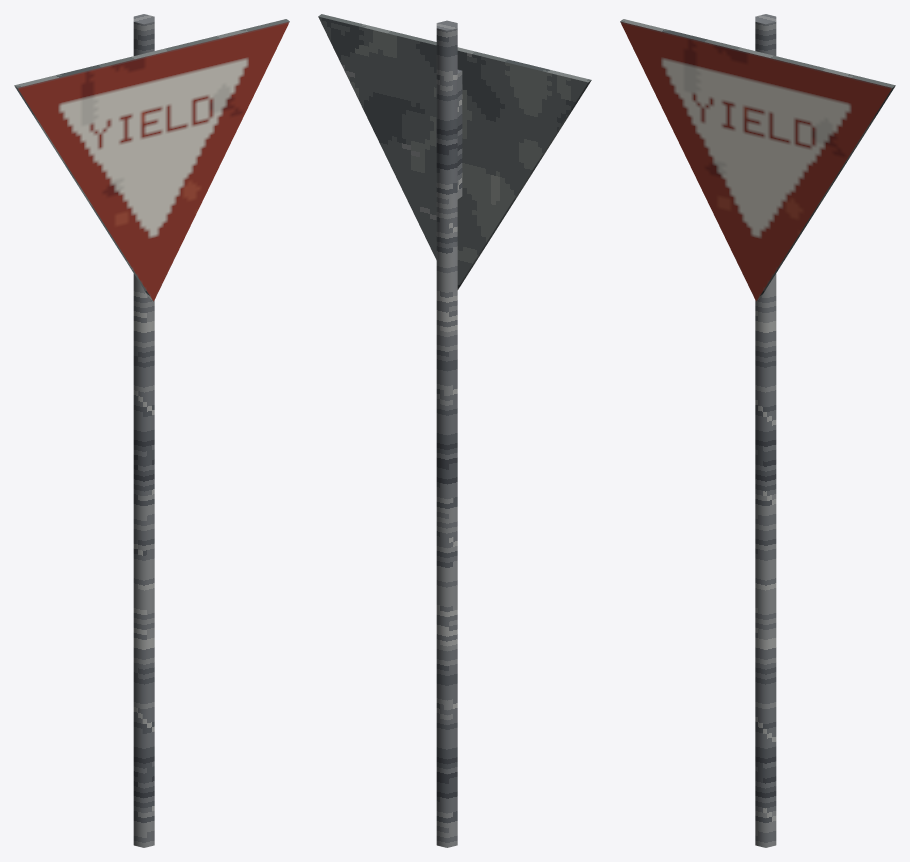
The model's file is SP_Sign_Yield.obj.
The picture shows the model from 3 angles, left to right: view 1: azimuth 30°, elevation 25°; view 2: azimuth 150°, elevation 25°; view 3: azimuth 330°, elevation 25°; orthographic projection.
Parts seen in each view (by area): view 1: SP_Sign_Yield_Mesh_M_Town_SignAtlas, SP_Sign_Yield_Mesh_M_Furn_MetalBrushed, SP_Sign_Yield_Mesh_M_Com_SignageBacking; view 2: SP_Sign_Yield_Mesh_M_Com_SignageBacking, SP_Sign_Yield_Mesh_M_Furn_MetalBrushed; view 3: SP_Sign_Yield_Mesh_M_Town_SignAtlas, SP_Sign_Yield_Mesh_M_Furn_MetalBrushed, SP_Sign_Yield_Mesh_M_Com_SignageBacking.
Boxes of the visible parts, left/top/right/bottom form: SP_Sign_Yield_Mesh_M_Town_SignAtlas: left=18, top=21, right=289, bottom=301; SP_Sign_Yield_Mesh_M_Furn_MetalBrushed: left=133, top=14, right=154, bottom=847; SP_Sign_Yield_Mesh_M_Com_SignageBacking: left=14, top=19, right=289, bottom=301; SP_Sign_Yield_Mesh_M_Com_SignageBacking: left=318, top=14, right=591, bottom=289; SP_Sign_Yield_Mesh_M_Furn_MetalBrushed: left=436, top=20, right=462, bottom=847; SP_Sign_Yield_Mesh_M_Town_SignAtlas: left=620, top=21, right=891, bottom=301; SP_Sign_Yield_Mesh_M_Furn_MetalBrushed: left=755, top=14, right=776, bottom=847; SP_Sign_Yield_Mesh_M_Com_SignageBacking: left=620, top=19, right=895, bottom=301.
Size of the model in its own units: 0.9 by 2.6 by 0.0853.
3 materials, 3 textured.
